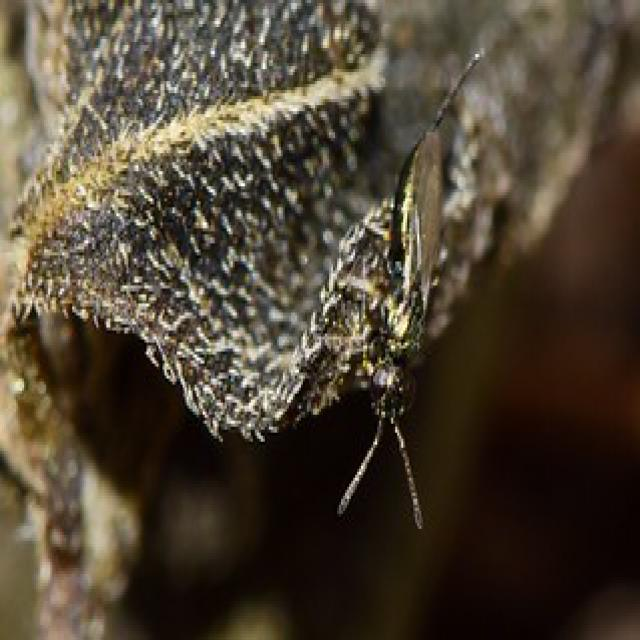Guepe: (332, 40, 479, 548)
